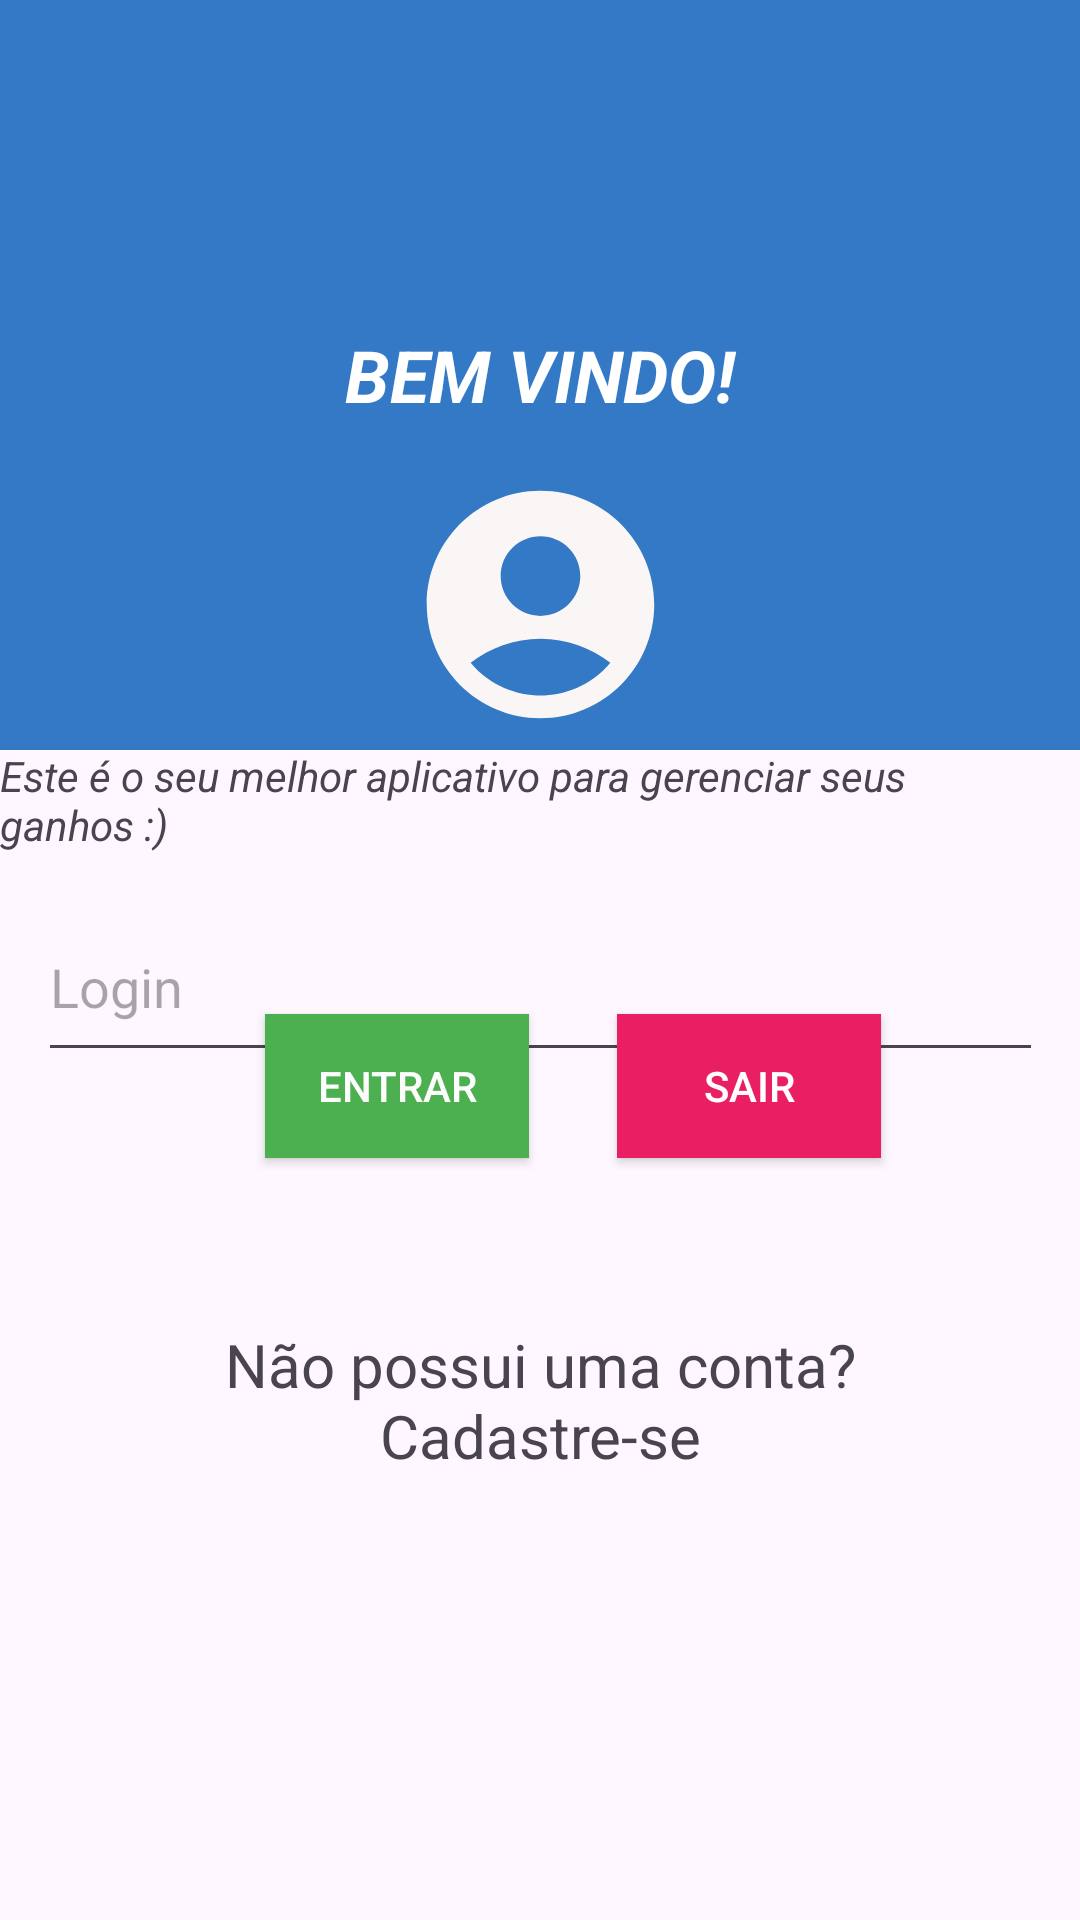

Where icons sit on this 1080px x 1920px app screen, as (x1, y1, x2, y2):
account circle: (426, 490, 655, 719)
